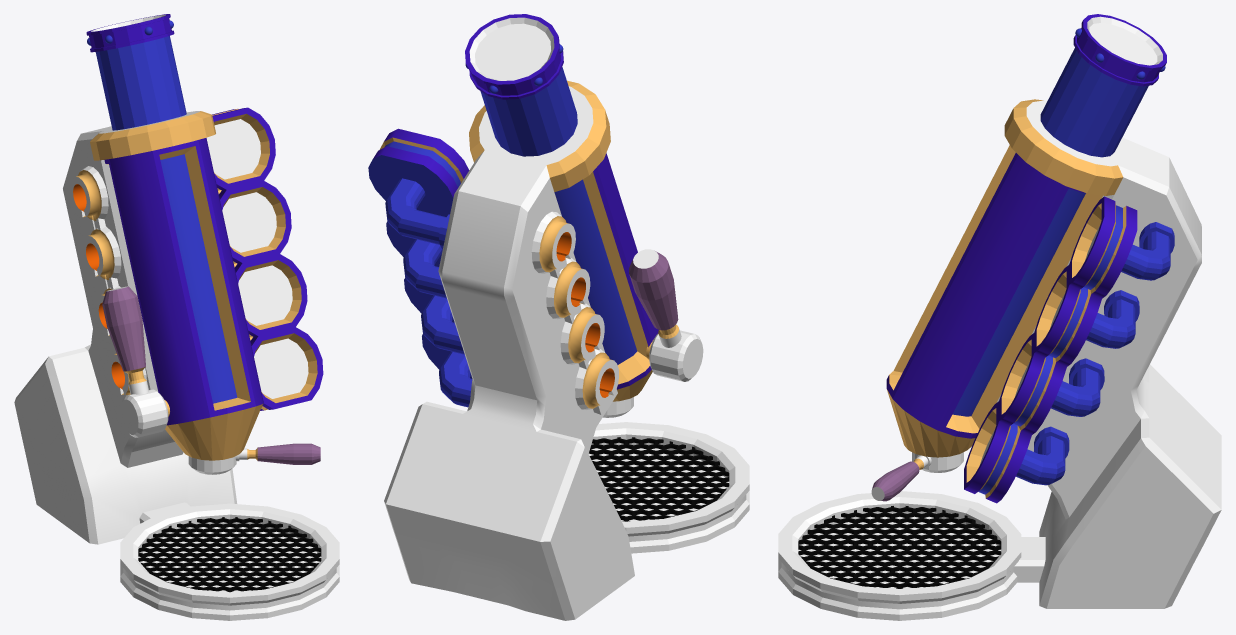
Rendered from Brew2_low.fbx.
3 renders of one model, left to right at view 1: azimuth 30°, elevation 25°; view 2: azimuth 150°, elevation 25°; view 3: azimuth 270°, elevation 25°, orthographic. The views are drawn at different scales.
Visible parts, largest first — view 1: Brew2; view 2: Brew2; view 3: Brew2.
Boxes of the visible parts, x1,y1,x2,y2 form: Brew2: (14, 14, 339, 620); Brew2: (368, 14, 749, 620); Brew2: (778, 14, 1221, 620).
Bounding box in the file's own units: 159 × 332 × 245.
